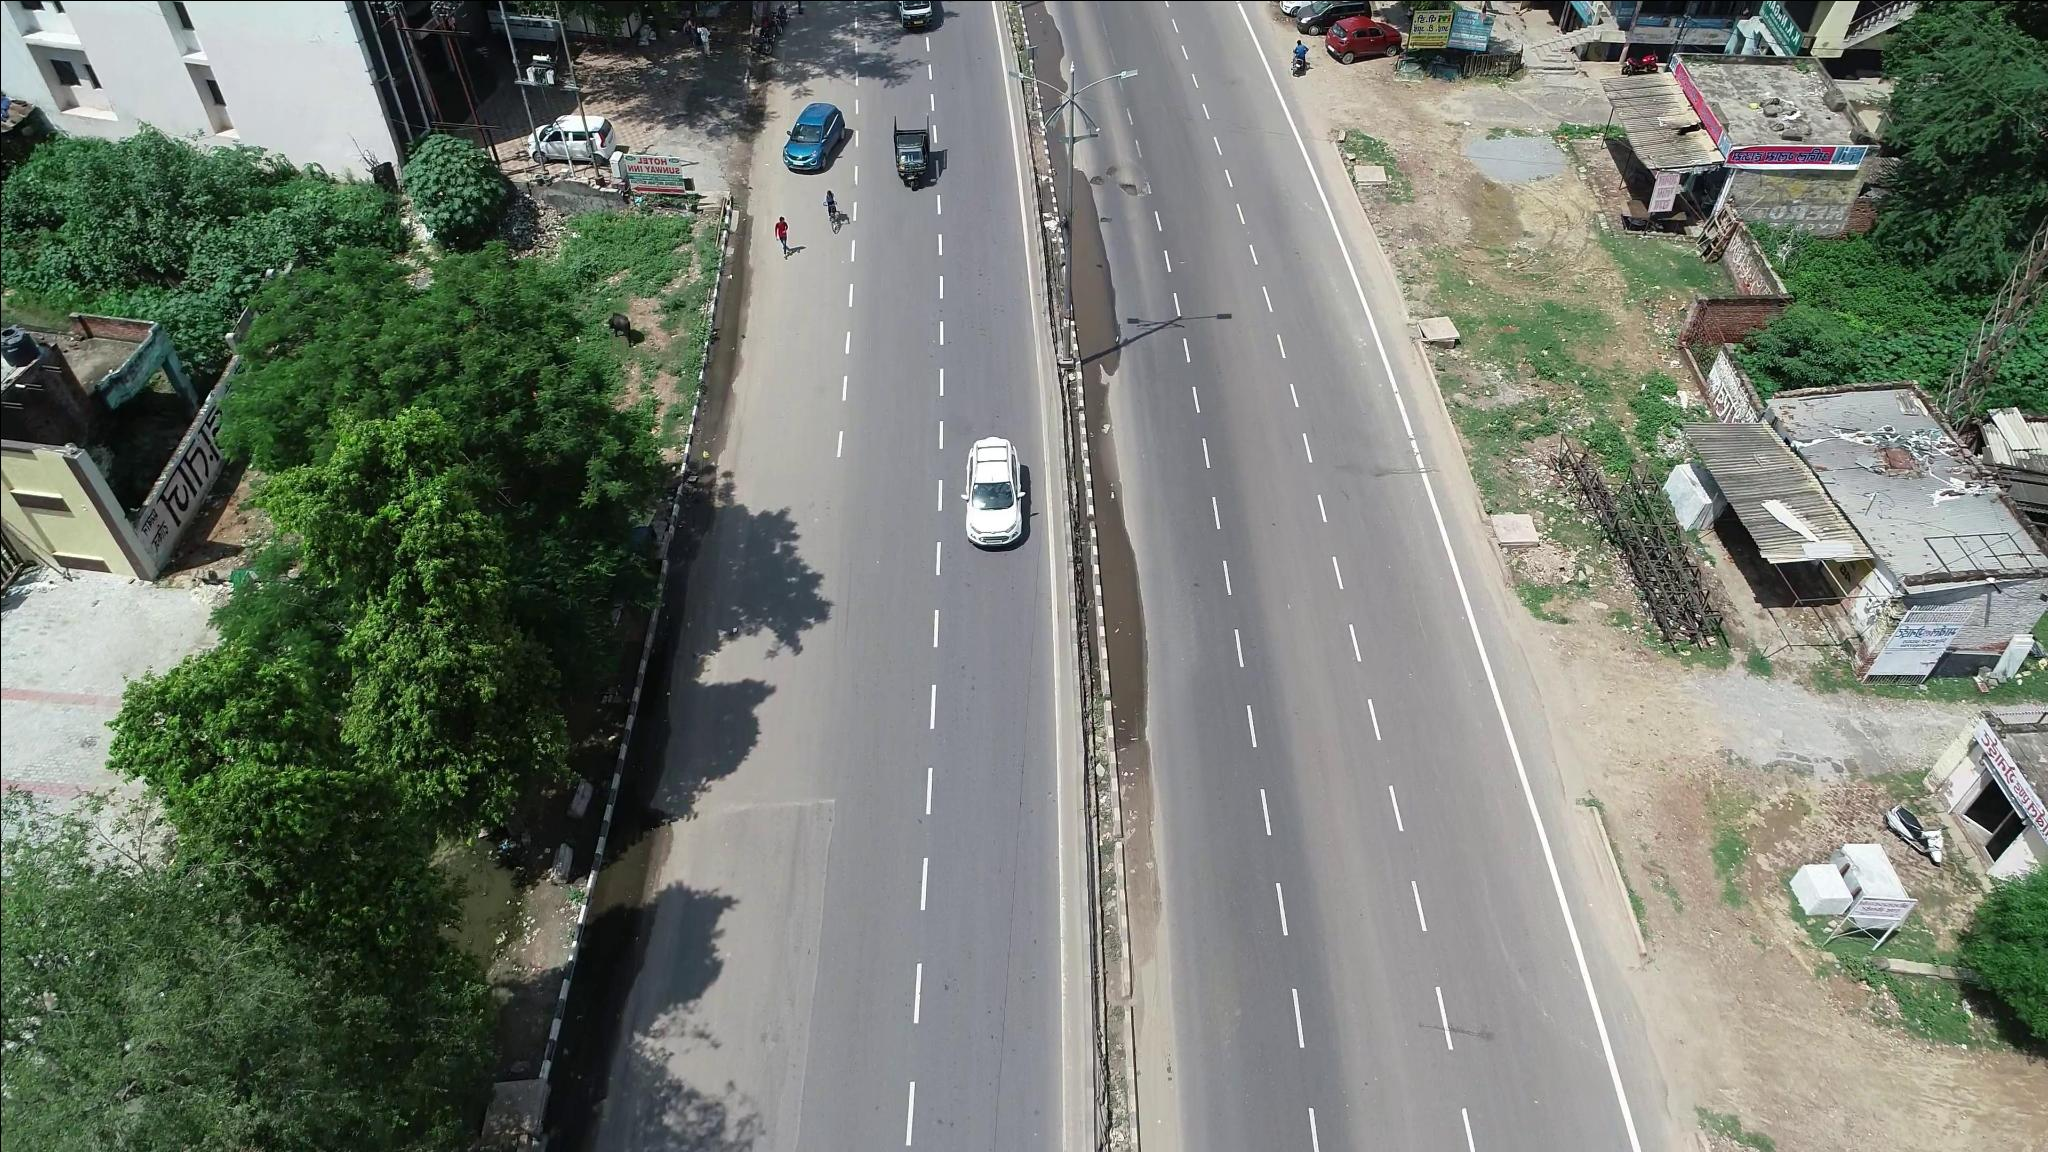Potholes: (1089, 162, 1145, 203), (1100, 210, 1117, 228)
Waterlogging: (1103, 489, 1160, 736), (1072, 188, 1127, 364)
